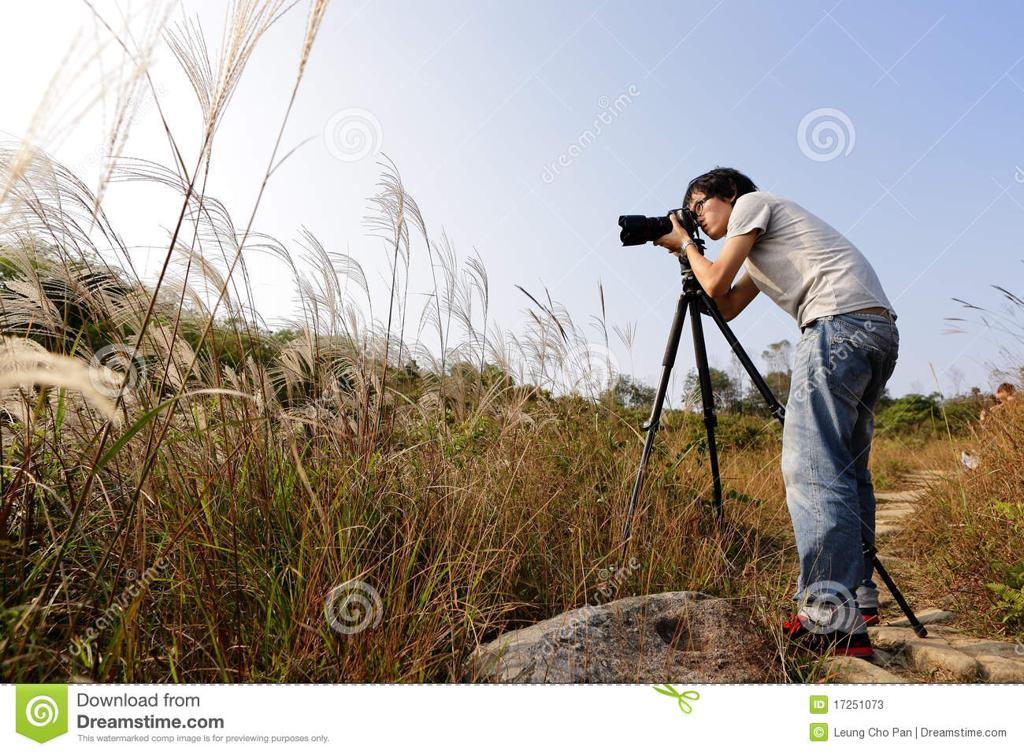face: (689, 189, 732, 233)
